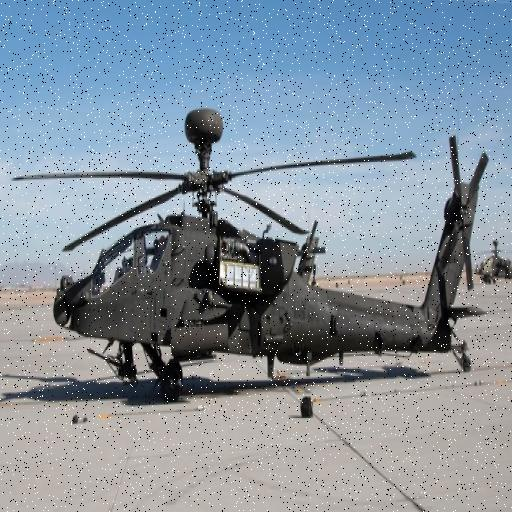helicopter: (27, 91, 493, 403)
